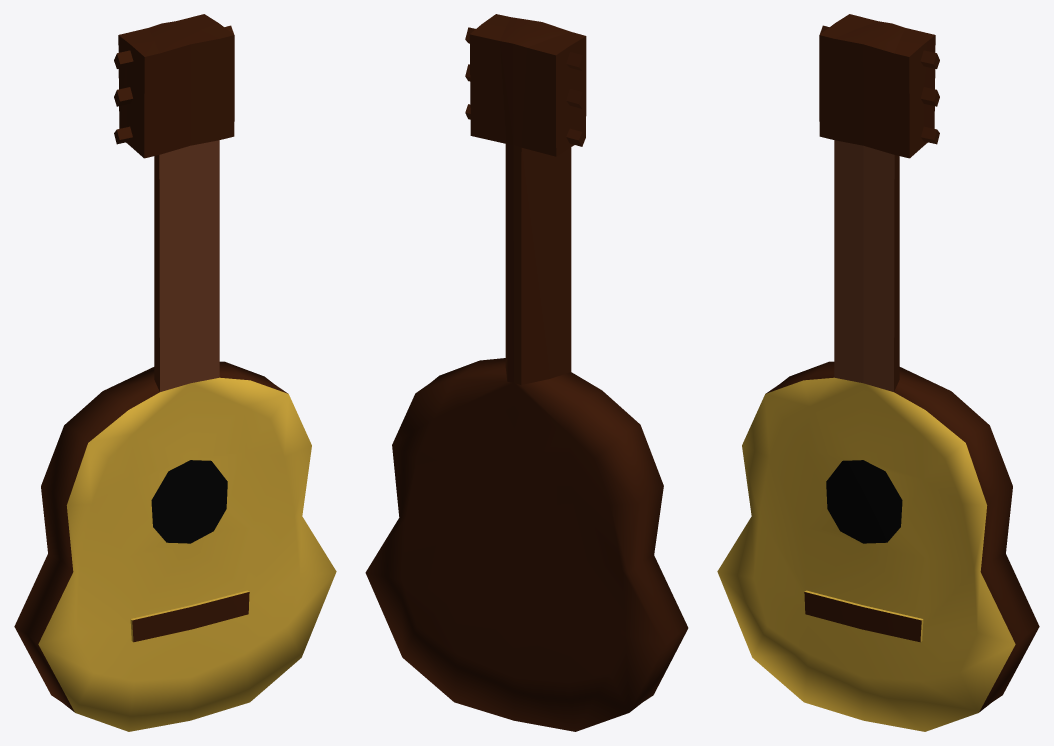
The model's file is guitarra_Romero.fbx.
3 views of the same model, side by side, from view 1: azimuth 30°, elevation 25°; view 2: azimuth 150°, elevation 25°; view 3: azimuth 330°, elevation 25° (orthographic).
Visible parts, largest first — view 1: Box004; view 2: Box004; view 3: Box004.
Boxes of the visible parts, x1,y1,x2,y2 form: Box004: (14, 14, 336, 731); Box004: (365, 14, 688, 731); Box004: (717, 14, 1039, 731).
Bounding box in the file's own units: 0.4314 × 0.9351 × 0.0784.
